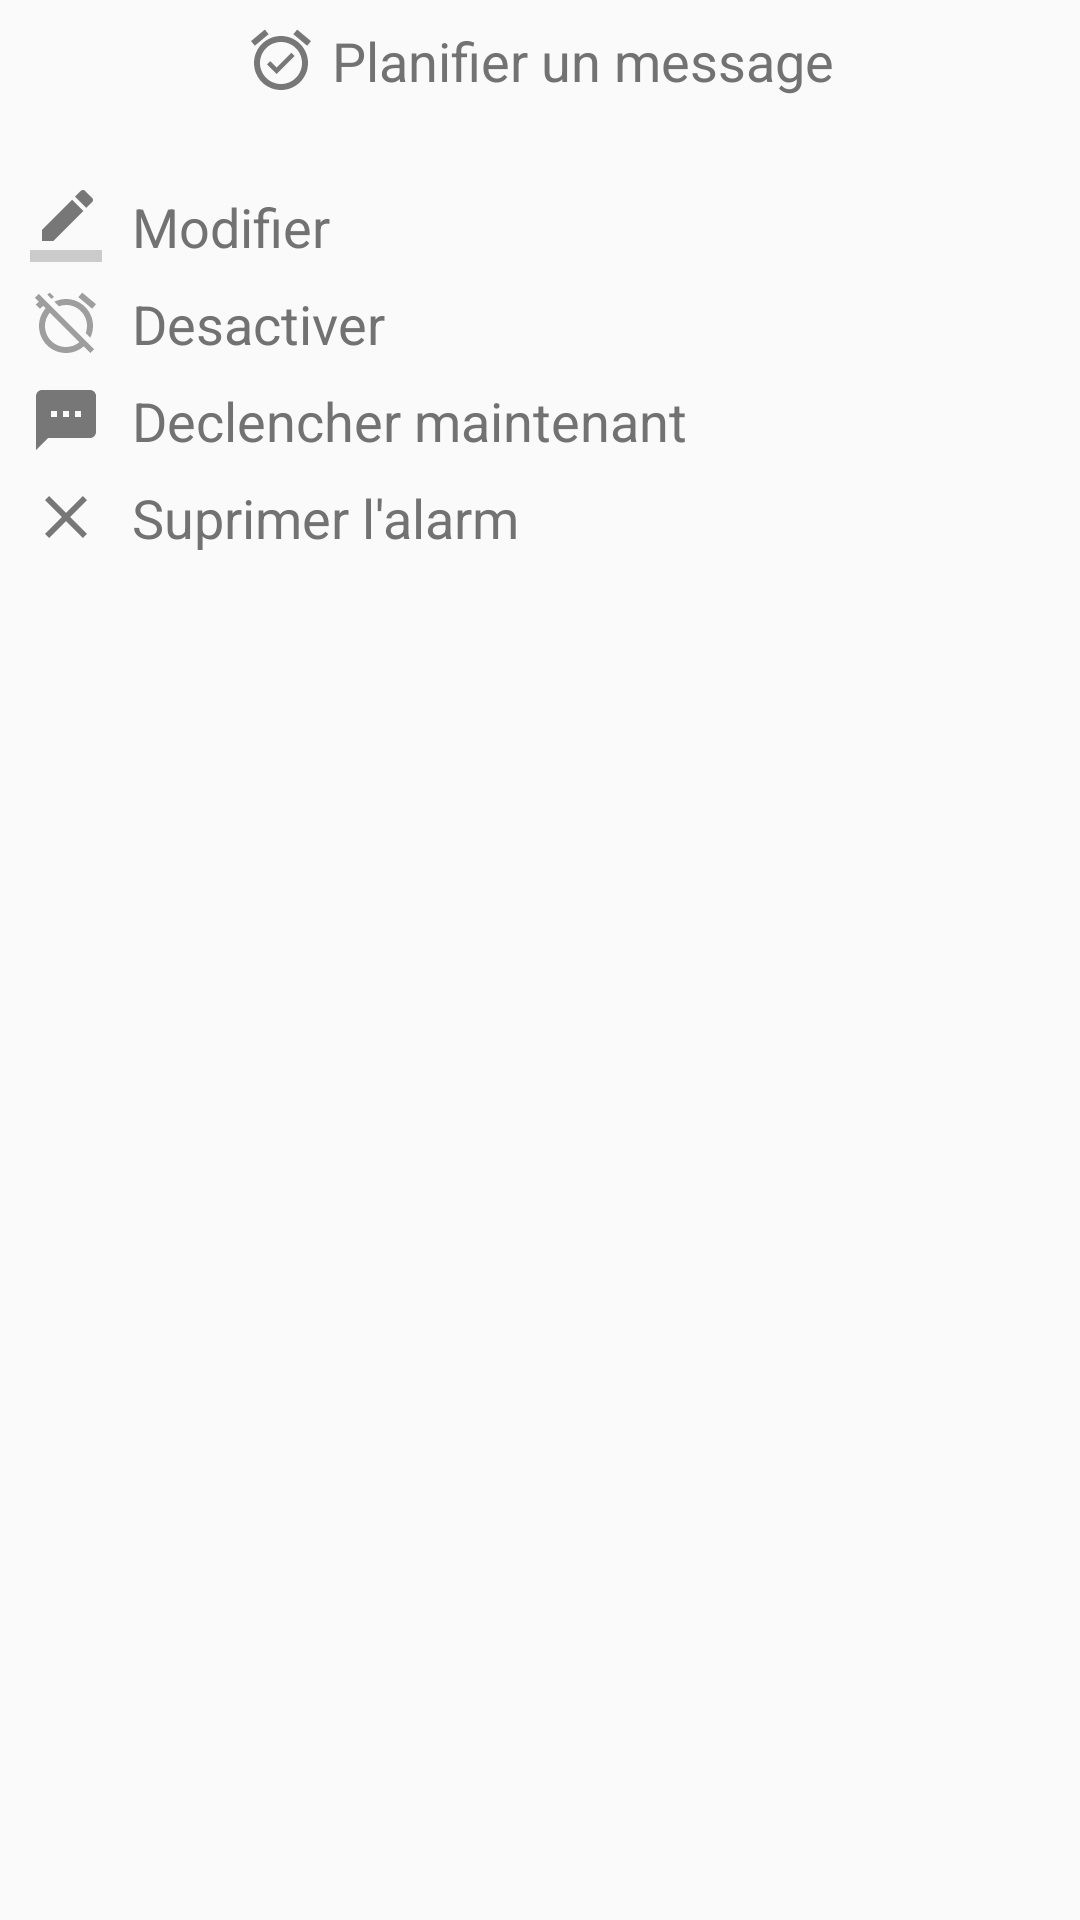

Icon click points for this 1080px x 1920px phone screenshot, format [x,y]:
alarm off: [65,323]
alarm on: [281,60]
clear delete: [66,517]
edit: [66,226]
textsms: [66,420]
